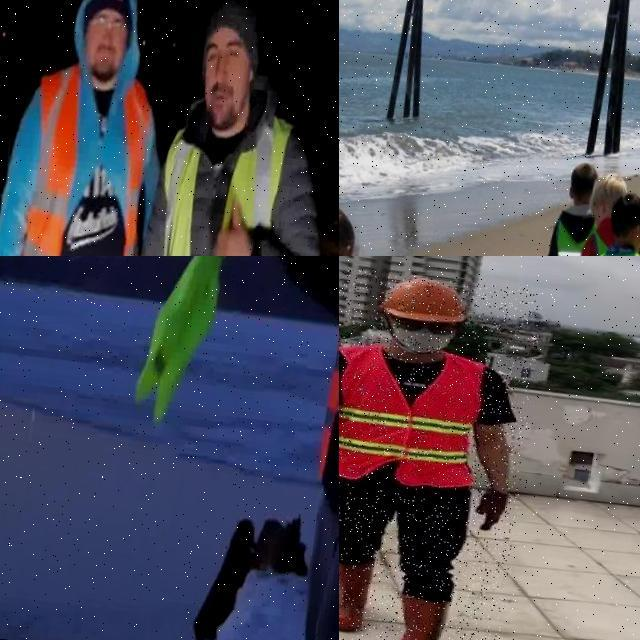boots: (390, 592, 465, 640), (339, 556, 374, 633)
helmet: (378, 271, 475, 326)
vest: (11, 67, 156, 256), (131, 103, 310, 256), (339, 339, 491, 490), (541, 205, 595, 256)
